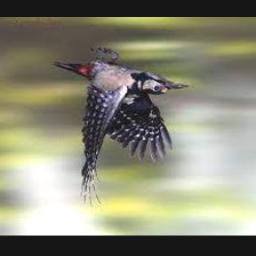Woodpecker: (53, 49, 189, 207)
